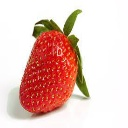strawberry: (18, 15, 89, 115)
